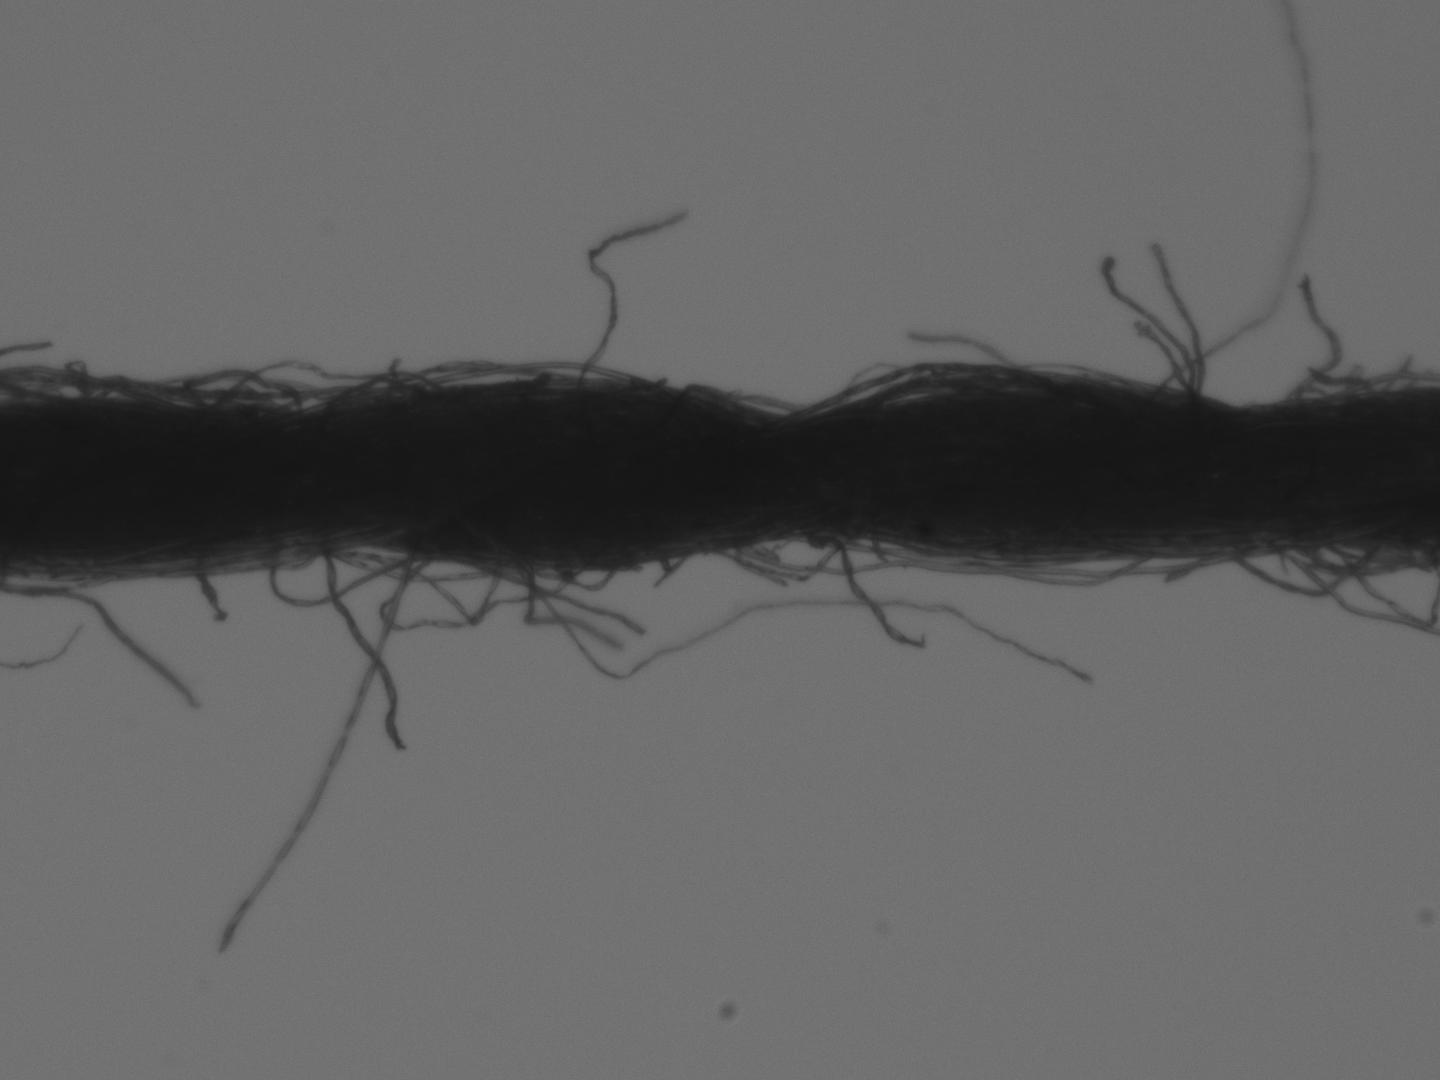loop_fiber: (780, 356, 1049, 422), (265, 539, 474, 610), (1220, 533, 1399, 599), (712, 528, 871, 589), (138, 363, 305, 421), (315, 364, 460, 422), (527, 551, 646, 593), (1308, 364, 1432, 400)
protruding_fiber: (579, 202, 694, 394), (1145, 238, 1210, 400)
